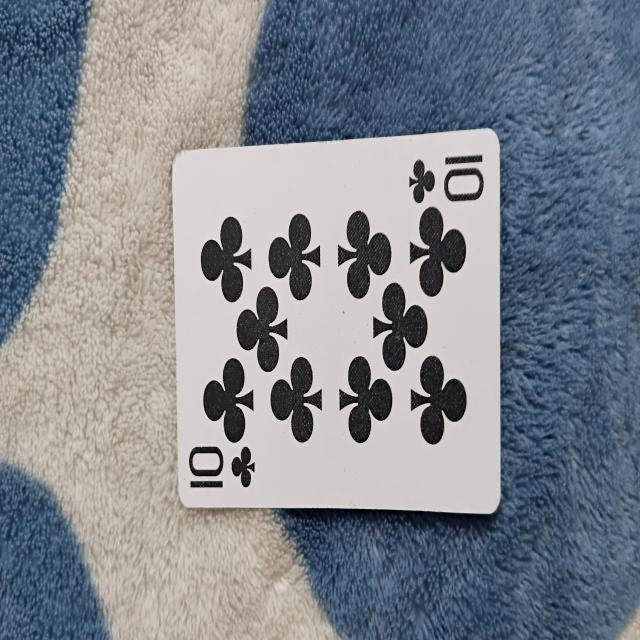10C: (175, 126, 500, 518)
